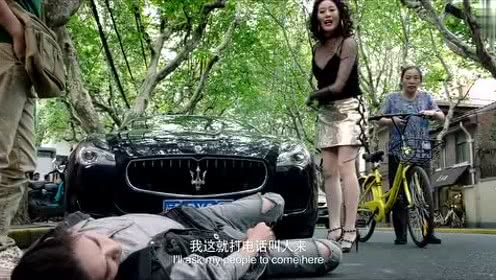falling: (7, 181, 333, 280)
